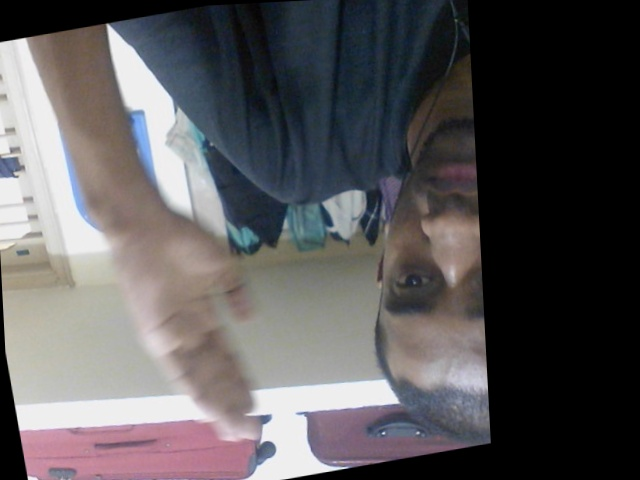hand: (93, 198, 270, 448)
